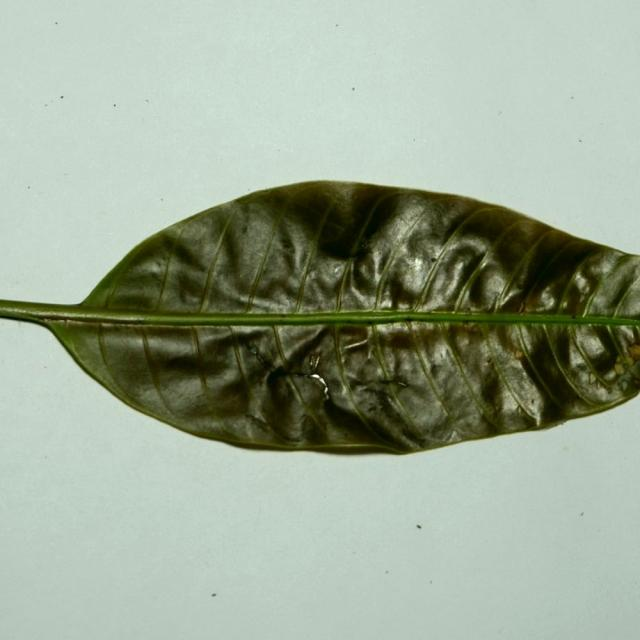Anthracnose: (0, 299, 195, 326), (296, 346, 351, 410), (596, 344, 637, 393), (360, 381, 414, 410), (265, 362, 310, 396), (240, 413, 279, 439), (450, 321, 488, 340), (245, 341, 268, 367), (375, 377, 411, 391), (437, 308, 484, 318), (354, 236, 375, 256), (345, 333, 369, 350), (591, 373, 609, 390), (342, 316, 367, 325), (579, 288, 591, 304), (309, 354, 320, 370), (616, 356, 629, 369), (517, 404, 529, 416), (632, 343, 640, 361), (517, 300, 528, 313), (588, 372, 598, 385), (491, 401, 501, 414), (248, 346, 259, 356), (462, 320, 474, 328), (403, 316, 415, 323)
Mango: (0, 181, 639, 459)
